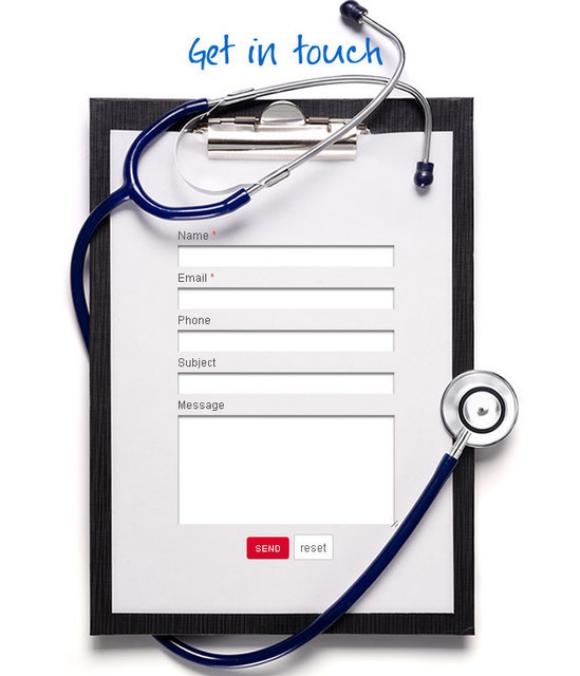_form_: (106, 150, 522, 566)
button: (291, 533, 334, 560), (247, 536, 290, 560)
field: (175, 413, 396, 526), (176, 285, 395, 313), (176, 327, 395, 355), (175, 242, 396, 268), (176, 371, 396, 397)
field_with_label: (173, 399, 400, 529), (173, 228, 398, 270), (174, 315, 399, 357), (174, 273, 398, 315), (175, 358, 397, 400)
